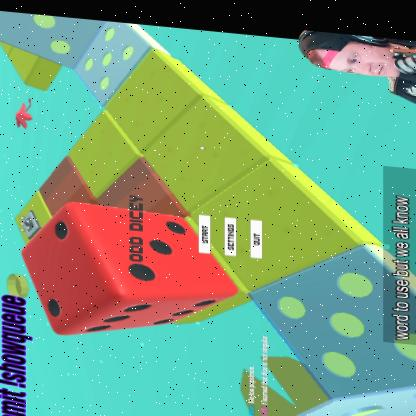streamer: (298, 23, 416, 102)
